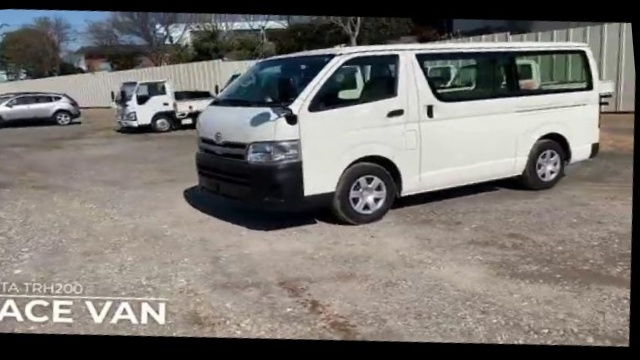van: (179, 0, 622, 247)
